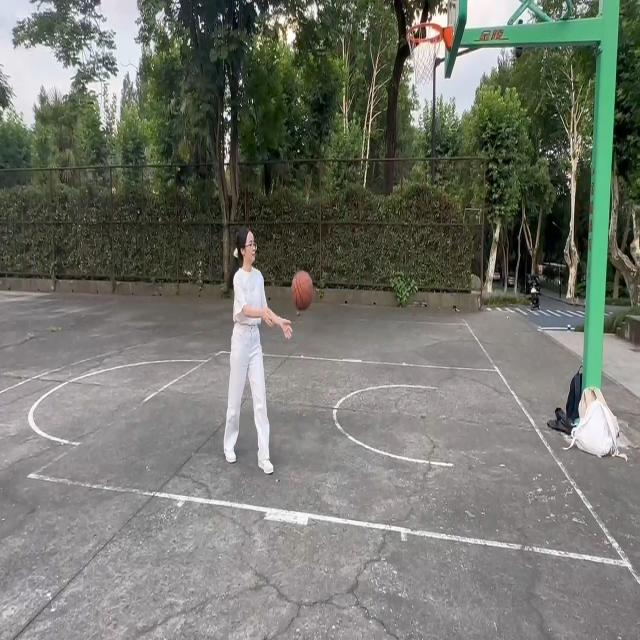basketball: (408, 22, 450, 97)
rim: (291, 271, 313, 311)
